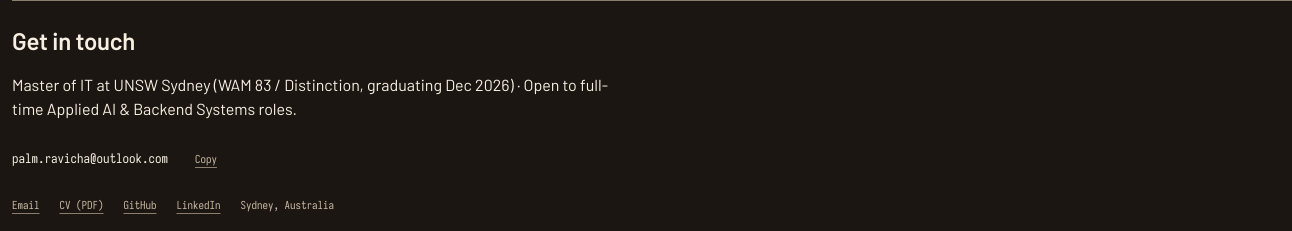
Test: ContactBlock › surfaces a failure state instead of a false success
Click the button at (206, 159), box x1=184 y1=137 x2=228 y2=181
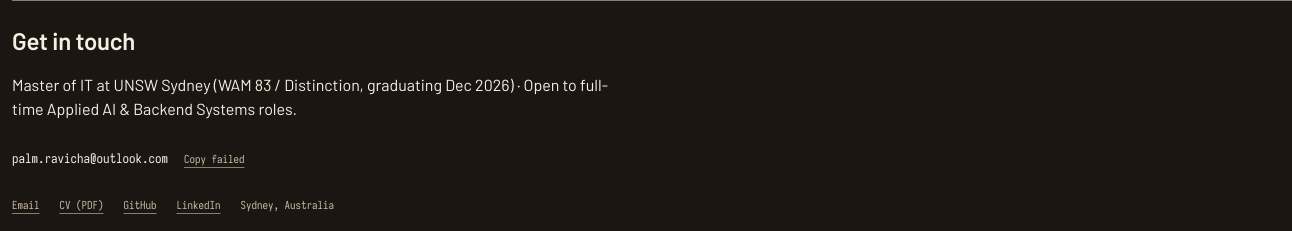
Result: the text "Copy failed" is shown at x1=184 y1=151 x2=244 y2=167
